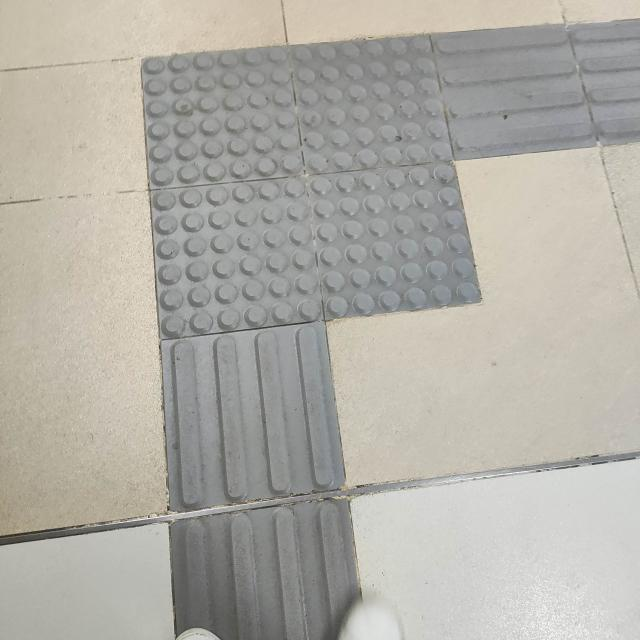kanan: (62, 13, 640, 378)
